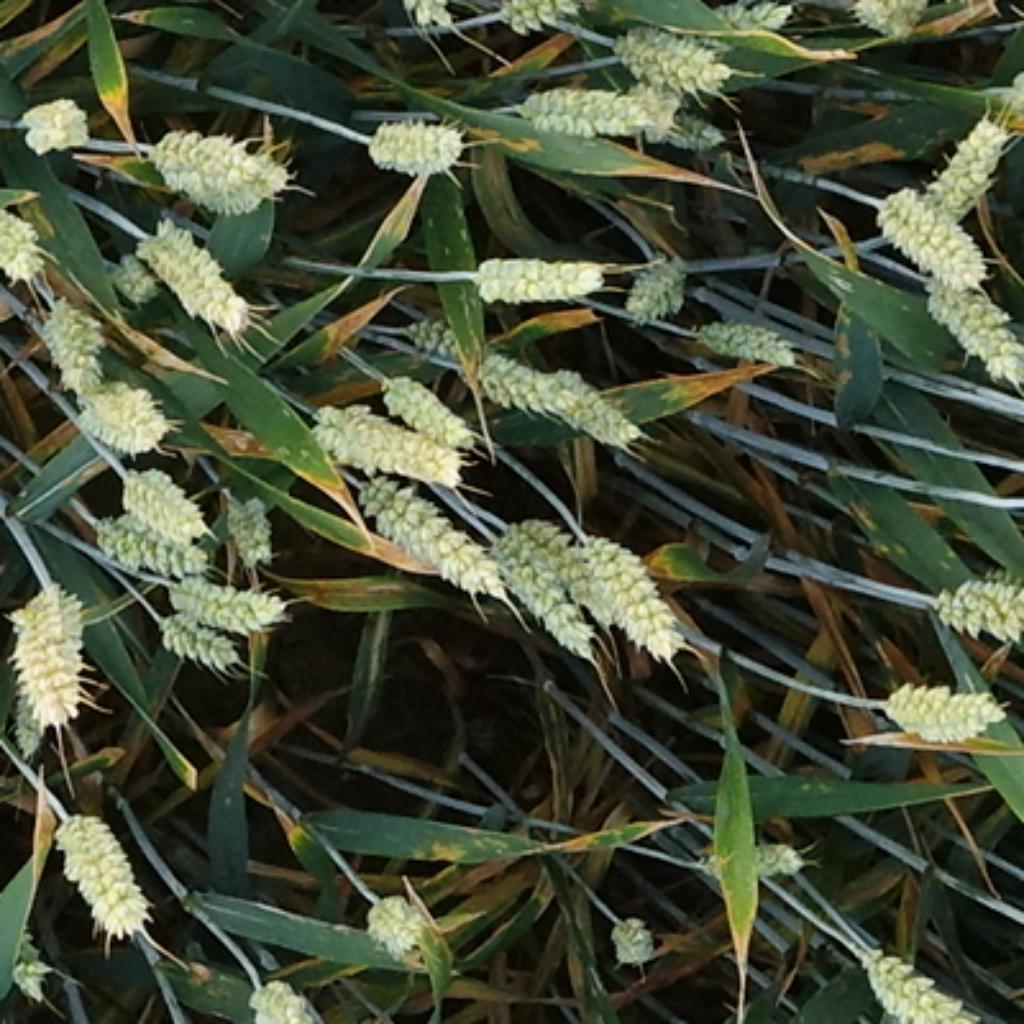0-0: (345, 460, 506, 596), (473, 343, 645, 448), (568, 531, 696, 672), (0, 565, 94, 734), (302, 401, 471, 494), (486, 517, 593, 660), (138, 110, 291, 209), (52, 810, 162, 946), (130, 212, 250, 327), (921, 266, 1024, 393), (865, 179, 993, 281), (514, 506, 624, 622), (852, 926, 975, 1024), (509, 71, 675, 138), (916, 104, 1008, 209), (877, 678, 1013, 749), (547, 368, 655, 453), (467, 248, 615, 310), (618, 20, 741, 92), (117, 458, 215, 547), (94, 512, 220, 581), (924, 558, 1024, 642), (363, 885, 453, 977), (74, 378, 174, 460), (358, 102, 471, 174), (161, 568, 286, 629), (33, 286, 110, 384), (373, 368, 476, 440), (688, 311, 801, 370), (491, 0, 645, 40), (10, 627, 53, 768), (158, 605, 250, 669), (698, 829, 801, 885), (619, 240, 691, 317), (0, 192, 52, 294), (15, 89, 94, 156), (2, 921, 61, 1009), (242, 970, 334, 1024), (604, 903, 672, 975), (217, 483, 276, 560), (849, 0, 939, 45), (396, 302, 471, 355), (660, 97, 724, 148), (701, 0, 793, 35), (112, 238, 151, 296), (312, 0, 448, 2)
